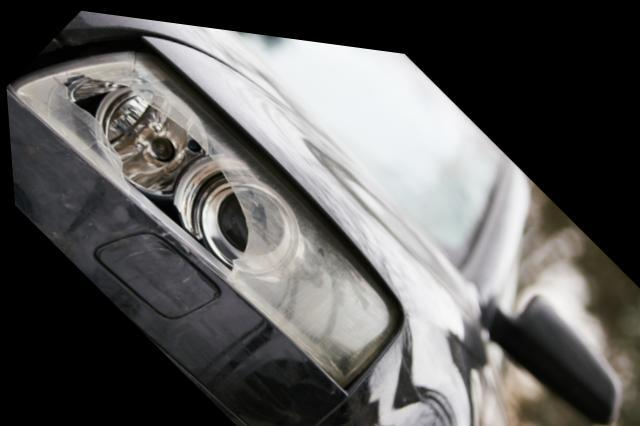lamp broken: (9, 41, 393, 381)
